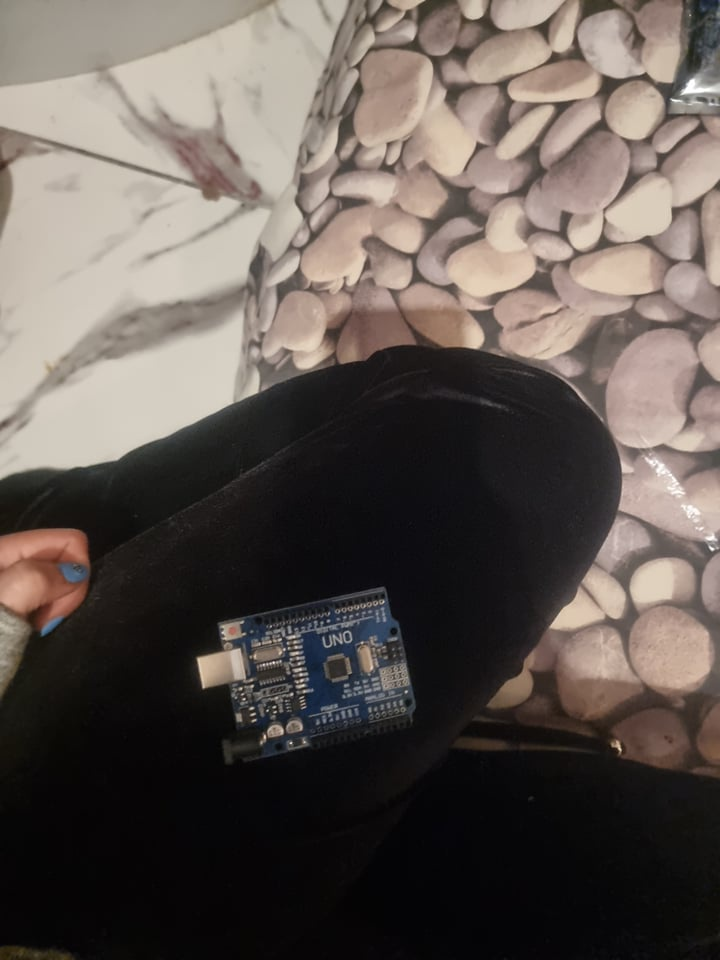5V EXPANSION: (198, 588, 413, 770)
